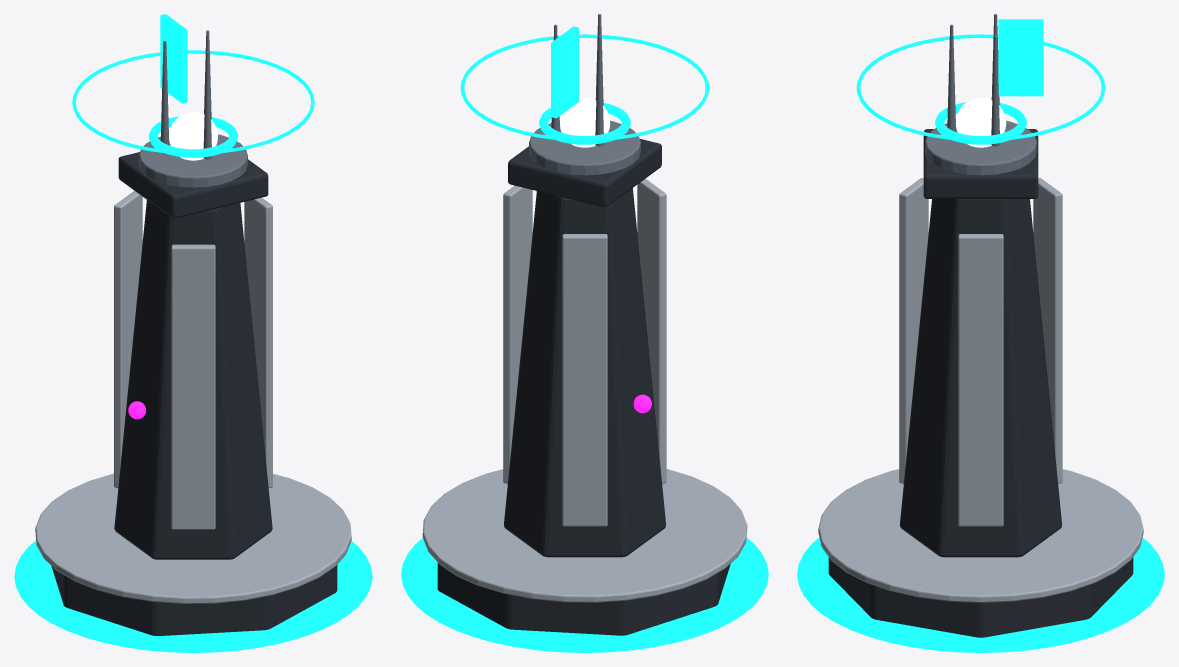
File: axiom_beacon.glb
3 renders of one model, left to right at view 1: azimuth 30°, elevation 25°; view 2: azimuth 150°, elevation 25°; view 3: azimuth 270°, elevation 25°, orthographic. The views are drawn at different scales.
Visible parts, largest first — view 1: Beacon_Shaft, Beacon_PlinthTrim, Beacon_Fin_2, Beacon_GroundRing, Beacon_Plinth, Beacon_Fin_1, Beacon_Fin_0, Beacon_Capital, Beacon_Collar, Beacon_HoloRing, Beacon_Crest, Beacon_Optic (+3 smaller); view 2: Beacon_Shaft, Beacon_PlinthTrim, Beacon_Fin_1, Beacon_GroundRing, Beacon_Plinth, Beacon_Fin_2, Beacon_Fin_0, Beacon_Capital, Beacon_Collar, Beacon_HoloRing, Beacon_Crest, Beacon_Optic (+2 smaller); view 3: Beacon_Shaft, Beacon_PlinthTrim, Beacon_Fin_0, Beacon_GroundRing, Beacon_Plinth, Beacon_Fin_1, Beacon_Fin_2, Beacon_Crest, Beacon_Capital, Beacon_Collar, Beacon_HoloRing, Beacon_Optic (+3 smaller).
Boxes of the visible parts, box(x1,y1,x2,y2) form: Beacon_Shaft: box(114, 200, 272, 559); Beacon_PlinthTrim: box(35, 473, 351, 603); Beacon_Fin_2: box(171, 244, 215, 529); Beacon_GroundRing: box(14, 540, 372, 652); Beacon_Plinth: box(51, 565, 337, 635); Beacon_Fin_1: box(114, 191, 142, 488); Beacon_Fin_0: box(244, 197, 272, 488); Beacon_Capital: box(118, 152, 268, 218); Beacon_Collar: box(139, 134, 247, 187); Beacon_HoloRing: box(72, 50, 314, 154); Beacon_Crest: box(160, 14, 187, 103); Beacon_Optic: box(169, 112, 217, 160); Beacon_Shaft: box(504, 188, 665, 557); Beacon_PlinthTrim: box(422, 469, 747, 602); Beacon_Fin_1: box(562, 234, 607, 526); Beacon_GroundRing: box(401, 538, 768, 652); Beacon_Plinth: box(437, 563, 730, 635); Beacon_Fin_2: box(637, 178, 666, 483); Beacon_Fin_0: box(503, 185, 532, 483); Beacon_Capital: box(508, 139, 661, 207); Beacon_Collar: box(529, 120, 640, 175); Beacon_HoloRing: box(460, 34, 709, 141); Beacon_Crest: box(551, 26, 578, 118); Beacon_Optic: box(560, 97, 610, 147); Beacon_Shaft: box(900, 199, 1061, 557); Beacon_PlinthTrim: box(818, 469, 1143, 602); Beacon_Fin_0: box(958, 234, 1003, 526); Beacon_GroundRing: box(797, 537, 1164, 652); Beacon_Plinth: box(828, 557, 1133, 637); Beacon_Fin_1: box(1033, 178, 1062, 483); Beacon_Fin_2: box(899, 178, 928, 483); Beacon_Crest: box(998, 19, 1043, 96); Beacon_Capital: box(923, 129, 1038, 198); Beacon_Collar: box(925, 120, 1036, 175); Beacon_HoloRing: box(856, 34, 1105, 141); Beacon_Optic: box(955, 97, 1006, 147).
Size of the model in its own units: 2.76 by 4.61 by 2.76.
